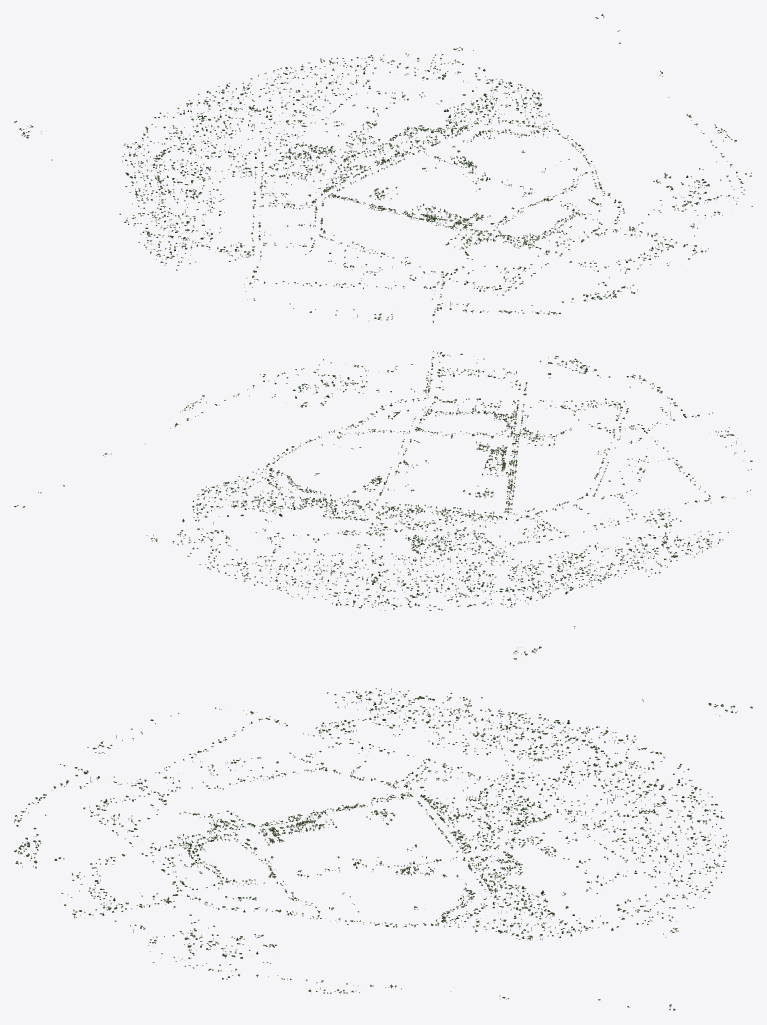
The model's file is engie_backdrop_part2.glb.
3 renders of one model, top to bottom at view 1: azimuth 30°, elevation 25°; view 2: azimuth 150°, elevation 25°; view 3: azimuth 270°, elevation 25°, orthographic. The views are drawn at different scales.
Visible parts, largest first — view 1: bg_trees_joined_s14, bg_trees_joined_s15, bg_trees_joined_s13, bg_trees_joined_s10, bg_trees_joined_s06, bg_trees_joined_s12, bg_trees_joined_s09, bg_trees_joined_s05, bg_trees_joined_s01, bg_trees_joined_s08, bg_trees_joined_s11; view 2: bg_trees_joined_s14, bg_trees_joined_s15, bg_trees_joined_s13, bg_trees_joined_s10, bg_trees_joined_s06, bg_trees_joined_s12, bg_trees_joined_s09, bg_trees_joined_s05, bg_trees_joined_s11, bg_trees_joined_s08, bg_trees_joined_s01; view 3: bg_trees_joined_s14, bg_trees_joined_s15, bg_trees_joined_s13, bg_trees_joined_s10, bg_trees_joined_s12, bg_trees_joined_s06, bg_trees_joined_s05, bg_trees_joined_s09, bg_trees_joined_s08, bg_trees_joined_s01, bg_trees_joined_s11, bg_trees_joined_s07.
Part boxes in pixels (<box>): bg_trees_joined_s14: <box>14,72,356,170</box>; bg_trees_joined_s15: <box>51,152,287,256</box>; bg_trees_joined_s13: <box>273,47,502,131</box>; bg_trees_joined_s10: <box>510,206,708,299</box>; bg_trees_joined_s06: <box>292,134,396,179</box>; bg_trees_joined_s12: <box>472,14,697,153</box>; bg_trees_joined_s09: <box>353,241,587,322</box>; bg_trees_joined_s05: <box>360,124,469,171</box>; bg_trees_joined_s01: <box>414,203,508,249</box>; bg_trees_joined_s08: <box>156,224,388,315</box>; bg_trees_joined_s11: <box>568,124,752,218</box>; bg_trees_joined_s14: <box>291,533,541,659</box>; bg_trees_joined_s15: <box>482,522,711,628</box>; bg_trees_joined_s13: <box>147,497,367,594</box>; bg_trees_joined_s10: <box>387,351,592,422</box>; bg_trees_joined_s06: <box>372,504,479,544</box>; bg_trees_joined_s12: <box>14,418,300,509</box>; bg_trees_joined_s09: <box>521,369,737,458</box>; bg_trees_joined_s05: <box>304,484,414,533</box>; bg_trees_joined_s11: <box>180,359,400,445</box>; bg_trees_joined_s08: <box>576,446,752,546</box>; bg_trees_joined_s01: <box>482,423,555,475</box>; bg_trees_joined_s14: <box>496,703,752,843</box>; bg_trees_joined_s15: <box>370,688,643,793</box>; bg_trees_joined_s13: <box>491,838,726,937</box>; bg_trees_joined_s10: <box>14,836,243,932</box>; bg_trees_joined_s12: <box>370,895,675,1010</box>; bg_trees_joined_s06: <box>429,795,537,842</box>; bg_trees_joined_s05: <box>407,839,537,892</box>; bg_trees_joined_s09: <box>14,735,233,839</box>; bg_trees_joined_s08: <box>131,691,370,783</box>; bg_trees_joined_s01: <box>207,810,336,840</box>; bg_trees_joined_s11: <box>148,896,363,993</box>; bg_trees_joined_s07: <box>370,774,482,825</box>.
Size of the model in its own units: 3150 by 68.57 by 3087.
Materials: 1 (1 with a texture image).
